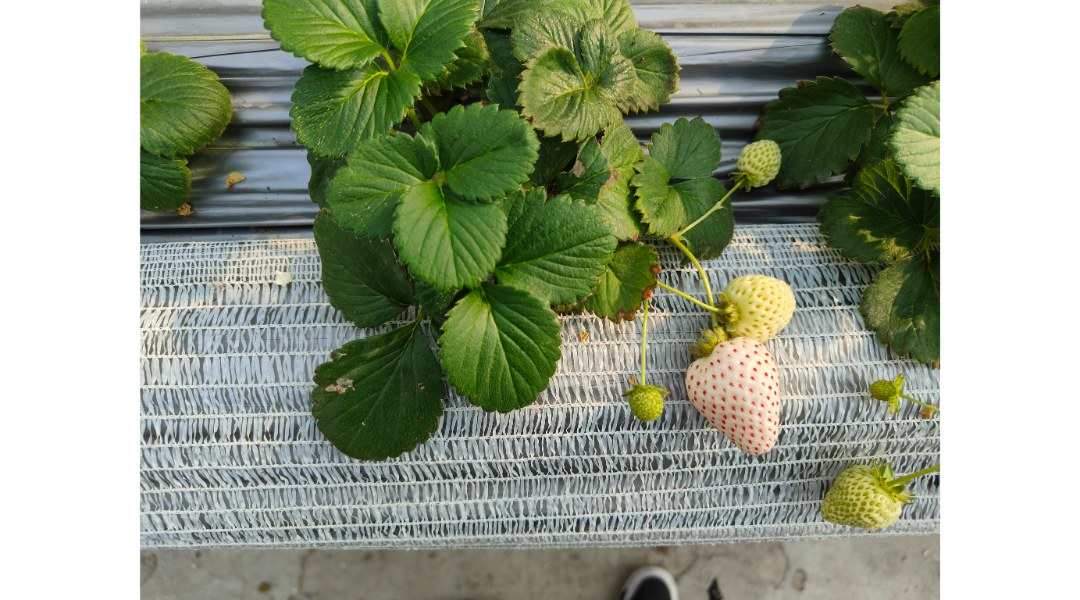berry: (682, 332, 787, 454), (803, 460, 907, 526), (716, 266, 800, 337), (729, 140, 794, 206), (622, 378, 670, 437)
strain: (679, 182, 740, 238), (659, 281, 731, 318), (635, 298, 656, 389)
